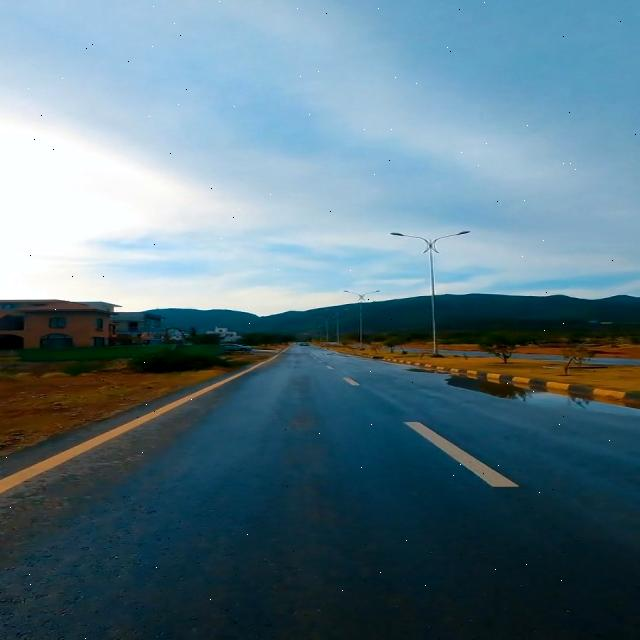lane: (0, 347, 287, 493), (405, 422, 518, 487)
road: (4, 346, 638, 639), (0, 347, 287, 493)
